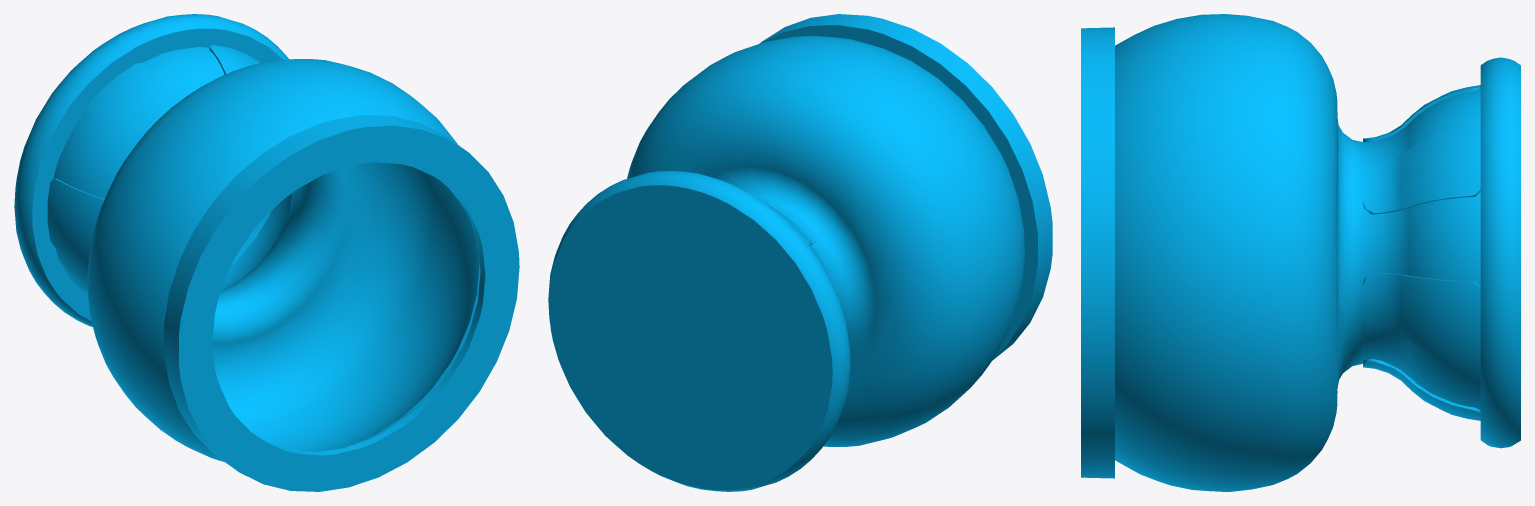
File: cup-metalblue.gltf
3 views of the same model, side by side, from view 1: azimuth 30°, elevation 25°; view 2: azimuth 150°, elevation 25°; view 3: azimuth 270°, elevation 25° (orthographic). The views are drawn at different scales.
Parts seen in each view (by area): view 1: Node; view 2: Node; view 3: Node.
Part boxes in pixels (x1,y1,x2,y2): Node: (14, 14, 519, 491); Node: (548, 14, 1052, 491); Node: (1081, 14, 1520, 491).
Size of the model in its own units: 0.8486 by 0.8478 by 0.78.
